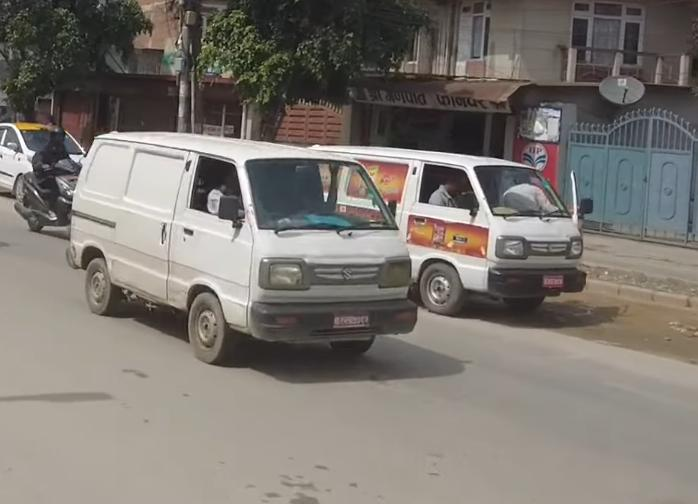scooter: (14, 153, 93, 232)
van: (54, 126, 426, 377), (306, 136, 598, 322)
